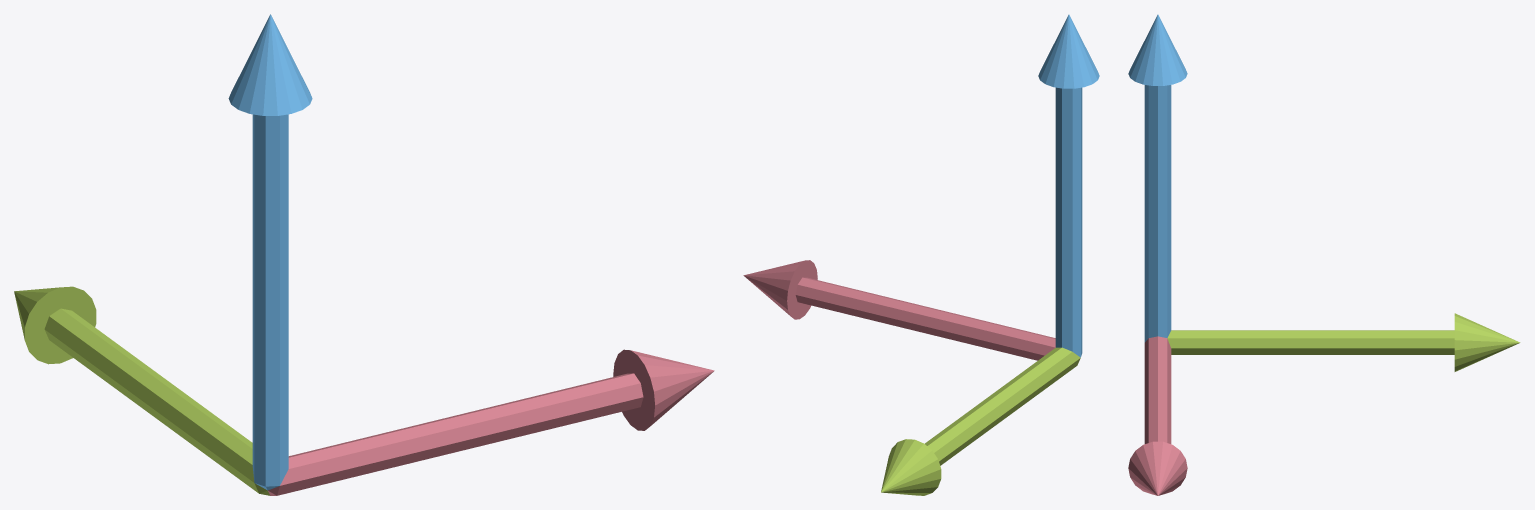
The model's file is arrows.glb.
The picture shows the model from 3 angles, left to right: view 1: azimuth 30°, elevation 25°; view 2: azimuth 150°, elevation 25°; view 3: azimuth 270°, elevation 25°; orthographic projection. The views are drawn at different scales.
Visible parts, largest first — view 1: Cylinder.001, Cylinder, Cylinder.002, Cone, Cone.001, Cone.002; view 2: Cylinder.001, Cylinder, Cylinder.002, Cone.002, Cone, Cone.001; view 3: Cylinder.002, Cylinder.001, Cylinder, Cone.001, Cone, Cone.002.
Boxes of the visible parts, left/top/right/bottom form: Cylinder.001: left=252, top=114, right=288, bottom=490; Cylinder: left=268, top=373, right=643, bottom=495; Cylinder.002: left=44, top=308, right=270, bottom=495; Cone: left=228, top=14, right=312, bottom=115; Cone.001: left=613, top=349, right=714, bottom=430; Cone.002: left=14, top=286, right=96, bottom=364; Cylinder.001: left=1055, top=87, right=1082, bottom=357; Cylinder: left=795, top=277, right=1055, bottom=360; Cylinder.002: left=925, top=347, right=1080, bottom=465; Cone.002: left=881, top=439, right=941, bottom=495; Cone: left=1038, top=14, right=1099, bottom=88; Cone.001: left=743, top=260, right=817, bottom=319; Cylinder.002: left=1167, top=330, right=1454, bottom=354; Cylinder.001: left=1144, top=85, right=1171, bottom=342; Cylinder: left=1144, top=336, right=1171, bottom=443; Cone.001: left=1128, top=441, right=1187, bottom=495; Cone: left=1128, top=14, right=1187, bottom=85; Cone.002: left=1454, top=313, right=1520, bottom=371.
Size of the model in its own units: 0.5943 by 0.595 by 0.595.
